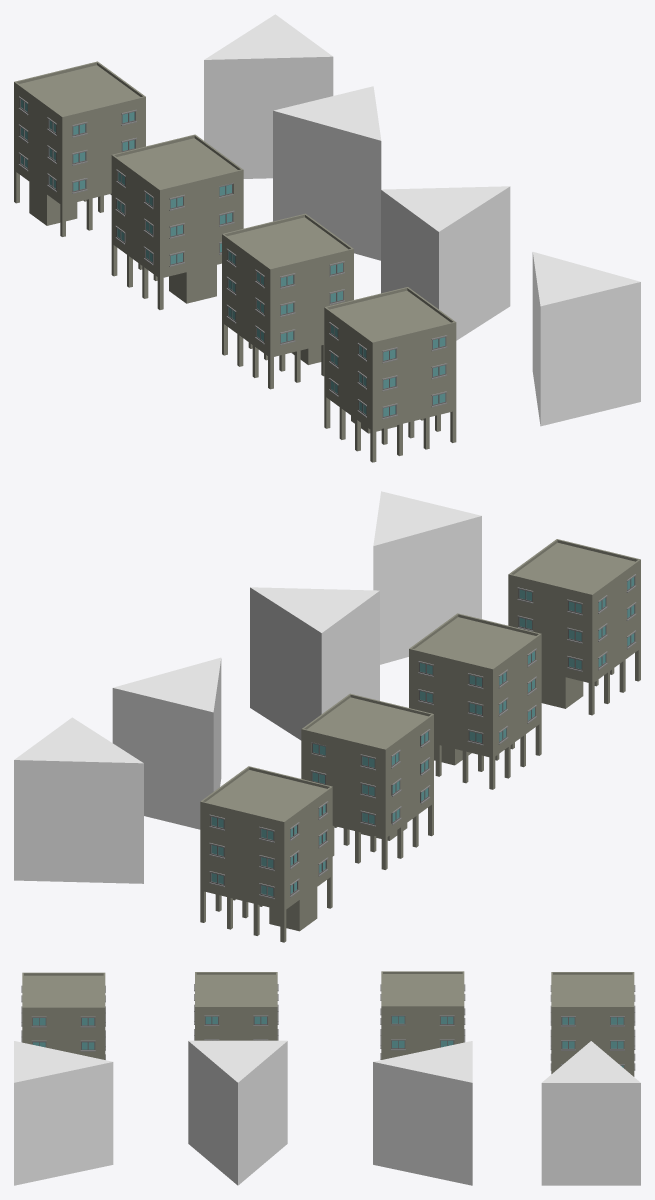
File: MaxMapModul.fbx
3 views of the same model, one above another, from view 1: azimuth 30°, elevation 25°; view 2: azimuth 150°, elevation 25°; view 3: azimuth 270°, elevation 25° (orthographic). The views are drawn at different scales.
Visible parts, largest first — view 1: 개체_1, 개체_429, 개체_3, 개체_4, 개체_57, 개체_59, 개체_58, 개체_85, 개체_83, 개체_84, 개체_159, 개체_157 (+37 smaller); view 2: 개체_4, 개체_429, 개체_1, 개체_3, 개체_92, 개체_91, 개체_93, 개체_117, 개체_118, 개체_76, 개체_119, 개체_75 (+36 smaller); view 3: 개체_429, 개체_3, 개체_1, 개체_4, 개체_125, 개체_49, 개체_170, 개체_131, 개체_176, 개체_108, 개체_63, 개체_97 (+23 smaller).
Part boxes in pixels (box(x1,y1,x2,y2)): 개체_1: box(532, 252, 640, 426); 개체_429: box(381, 186, 510, 340); 개체_3: box(273, 86, 381, 260); 개체_4: box(204, 14, 333, 178); 개체_57: box(343, 325, 419, 373); 개체_59: box(343, 382, 419, 429); 개체_58: box(343, 353, 419, 401); 개체_85: box(249, 314, 321, 355); 개체_83: box(249, 258, 321, 299); 개체_84: box(249, 286, 321, 327); 개체_159: box(35, 102, 94, 147); 개체_157: box(35, 158, 94, 203); 개체_4: box(14, 717, 143, 883); 개체_429: box(250, 587, 379, 740); 개체_1: box(373, 491, 481, 664); 개체_3: box(112, 657, 221, 829); 개체_92: box(441, 682, 520, 728); 개체_91: box(441, 654, 520, 699); 개체_93: box(441, 710, 520, 756); 개체_117: box(349, 732, 415, 780); 개체_118: box(349, 761, 415, 808); 개체_76: box(545, 642, 611, 681); 개체_119: box(349, 789, 415, 836); 개체_75: box(545, 614, 611, 653); 개체_429: box(188, 1040, 287, 1185); 개체_3: box(373, 1041, 472, 1185); 개체_1: box(14, 1041, 113, 1185); 개체_4: box(541, 1041, 640, 1185); 개체_125: box(413, 1010, 464, 1032); 개체_49: box(22, 1011, 73, 1033); 개체_170: box(551, 987, 598, 1010); 개체_131: box(413, 988, 464, 1009); 개체_176: box(551, 1010, 598, 1033); 개체_108: box(231, 1010, 277, 1033); 개체_63: box(24, 975, 73, 994); 개체_97: box(231, 974, 275, 995).
Bounding box in the file's own units: 32092 × 75622 × 13700.
